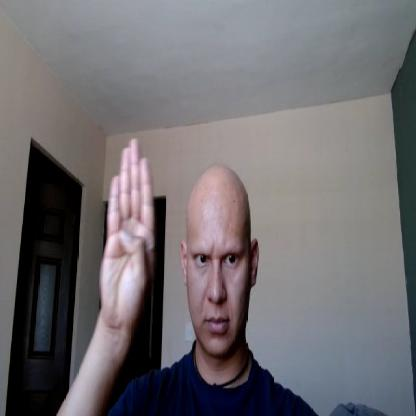B: (97, 134, 157, 325)
